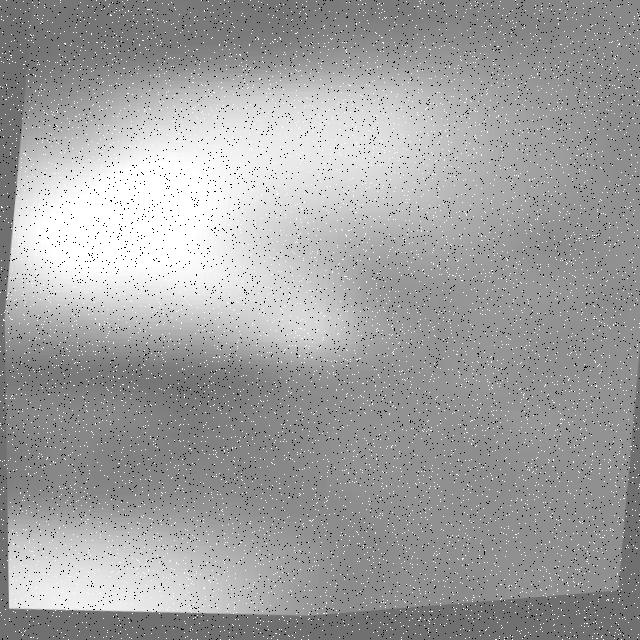person: (2, 47, 606, 428), (7, 497, 315, 640)
